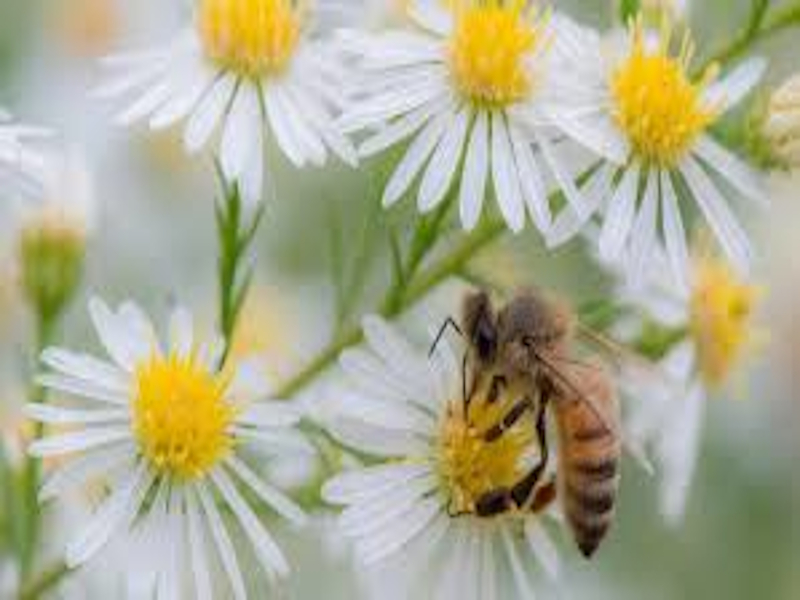abeja: (409, 265, 672, 577)
